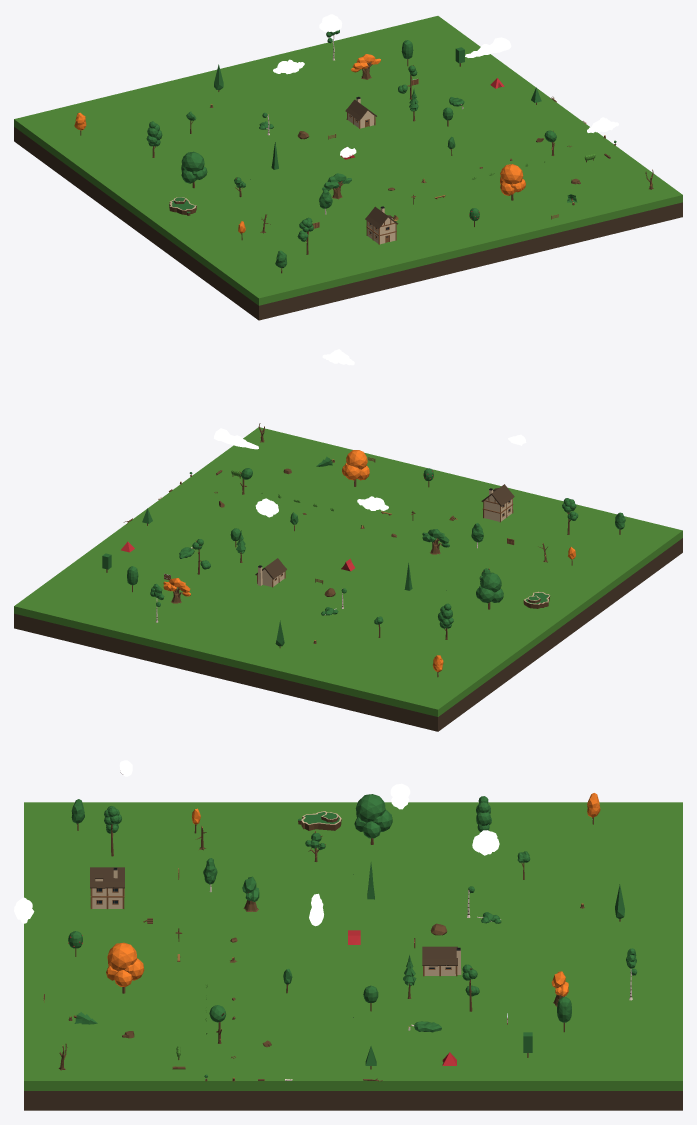
Rendered from Evomon.glb.
3 views of the same model, one above another, from view 1: azimuth 30°, elevation 25°; view 2: azimuth 150°, elevation 25°; view 3: azimuth 270°, elevation 25° (orthographic). The views are drawn at different scales.
Parts seen in each view (by area): view 1: Object_5127.015, Object_5127.011, Object_5127.007, Object_5127.003, Object_5127.014, Object_5127.013, Object_5127.012, Object_5127.005, Object_5127.002, Object_5127, Object_5127.009, Object_5127.006 (+8 smaller); view 2: Object_5127.014, Object_5127.002, Object_5127.006, Object_5127.010, Object_5127.012, Object_5127.015, Object_5127.013, Object_5127.005, Object_5127, Object_5127.001, Object_5127.009, Object_5127.011 (+8 smaller); view 3: Object_5127.009, Object_5127.010, Object_5127.011, Object_5127.008, Object_5127.005, Object_5127.002, Object_5127.014, Object_5127, Object_5127.006, Object_5127.015, Object_5127.001, Object_5127.013 (+9 smaller).
Boxes of the visible parts, x1=… form: Object_5127.015: x1=197, y1=228, x2=364, y2=320; Object_5127.011: x1=522, y1=150, x2=682, y2=242; Object_5127.007: x1=410, y1=180, x2=576, y2=268; Object_5127.003: x1=309, y1=202, x2=470, y2=294; Object_5127.014: x1=14, y1=93, x2=180, y2=185; Object_5127.013: x1=136, y1=184, x2=300, y2=275; Object_5127.012: x1=75, y1=138, x2=235, y2=230; Object_5127.005: x1=350, y1=131, x2=503, y2=201; Object_5127.002: x1=120, y1=67, x2=286, y2=137; Object_5127: x1=181, y1=112, x2=342, y2=182; Object_5127.009: x1=455, y1=105, x2=621, y2=173; Object_5127.006: x1=226, y1=42, x2=392, y2=111; Object_5127.014: x1=332, y1=639, x2=499, y2=731; Object_5127.002: x1=226, y1=613, x2=392, y2=705; Object_5127.006: x1=120, y1=589, x2=286, y2=679; Object_5127.010: x1=14, y1=561, x2=177, y2=653; Object_5127.012: x1=394, y1=594, x2=560, y2=686; Object_5127.015: x1=516, y1=504, x2=682, y2=596; Object_5127.013: x1=455, y1=549, x2=621, y2=641; Object_5127.005: x1=244, y1=497, x2=409, y2=566; Object_5127: x1=287, y1=569, x2=453, y2=638; Object_5127.001: x1=353, y1=523, x2=515, y2=593; Object_5127.009: x1=137, y1=472, x2=302, y2=541; Object_5127.011: x1=198, y1=427, x2=352, y2=497; Object_5127.009: x1=188, y1=1011, x2=353, y2=1110; Object_5127.010: x1=518, y1=1011, x2=682, y2=1110; Object_5127.011: x1=24, y1=1011, x2=188, y2=1110; Object_5127.008: x1=353, y1=1011, x2=518, y2=1110; Object_5127.005: x1=188, y1=941, x2=353, y2=1011; Object_5127.002: x1=518, y1=872, x2=682, y2=941; Object_5127.014: x1=518, y1=802, x2=682, y2=871; Object_5127: x1=353, y1=872, x2=518, y2=941; Object_5127.006: x1=518, y1=941, x2=682, y2=1011; Object_5127.015: x1=24, y1=802, x2=188, y2=871; Object_5127.001: x1=188, y1=872, x2=353, y2=941; Object_5127.013: x1=188, y1=802, x2=353, y2=871.
Bounding box in the file's own units: 121 × 32.5 × 122.
Materials: 1 (1 with a texture image).
